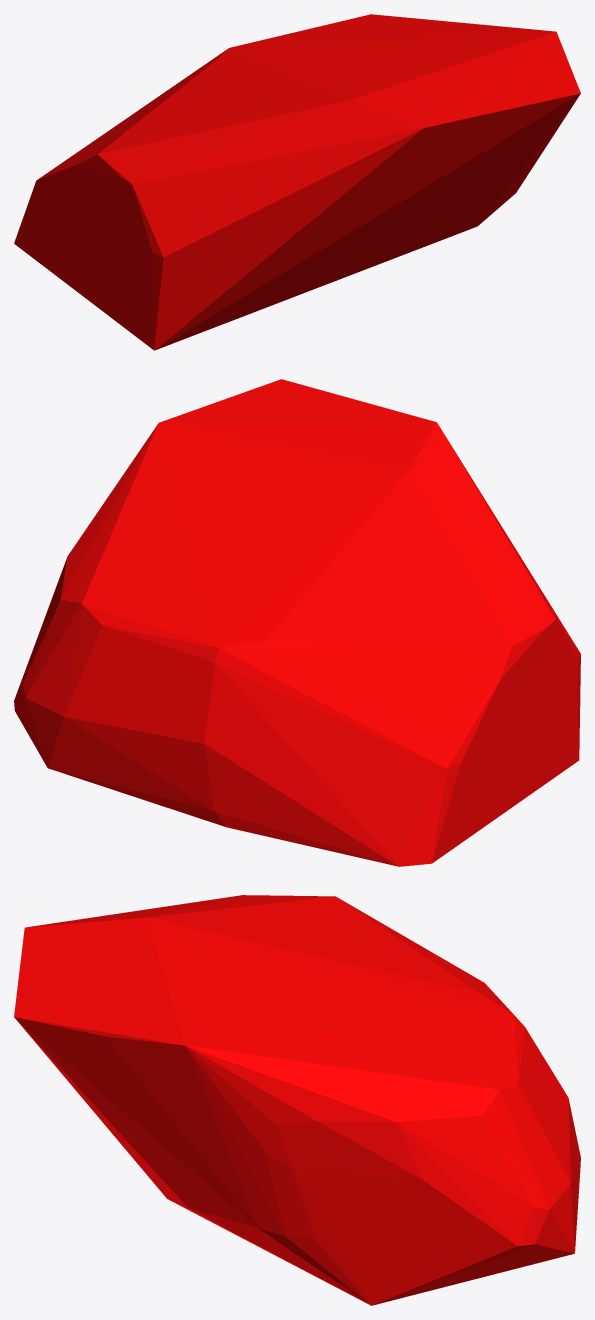
The model's file is tip_006_2_convex_hull_04.obj.
3 views of the same model, one above another, from view 1: azimuth 30°, elevation 25°; view 2: azimuth 150°, elevation 25°; view 3: azimuth 270°, elevation 25° (orthographic). The views are drawn at different scales.
Parts seen in each view (by area): view 1: tip_006_2_convex_hull_04; view 2: tip_006_2_convex_hull_04; view 3: tip_006_2_convex_hull_04.
Boxes of the visible parts, box(x1,y1,x2,y2) form: tip_006_2_convex_hull_04: box(14, 14, 580, 350); tip_006_2_convex_hull_04: box(14, 379, 580, 866); tip_006_2_convex_hull_04: box(14, 895, 580, 1305).
Bounding box in the file's own units: 0.00269 × 0.0014 × 0.00265.
